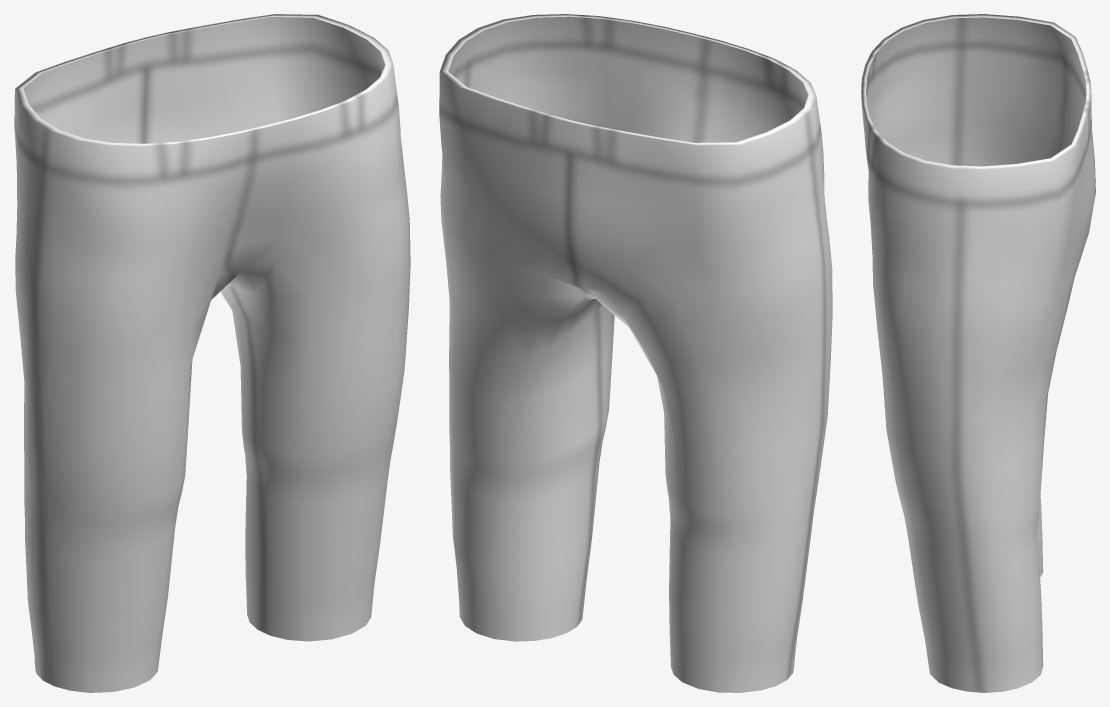
Rendered from lower cloth 05.glb.
3 views of the same model, side by side, from view 1: azimuth 30°, elevation 25°; view 2: azimuth 150°, elevation 25°; view 3: azimuth 270°, elevation 25° (orthographic). The views are drawn at different scales.
Parts seen in each view (by area): view 1: lower_cloth_05; view 2: lower_cloth_05; view 3: lower_cloth_05.
Boxes of the visible parts, x1=… form: lower_cloth_05: x1=14, y1=14, x2=410, y2=692; lower_cloth_05: x1=439, y1=14, x2=832, y2=692; lower_cloth_05: x1=861, y1=14, x2=1095, y2=692.
Bounding box in the file's own units: 0.00485 × 0.00704 × 0.00284.
1 material, 1 textured.
